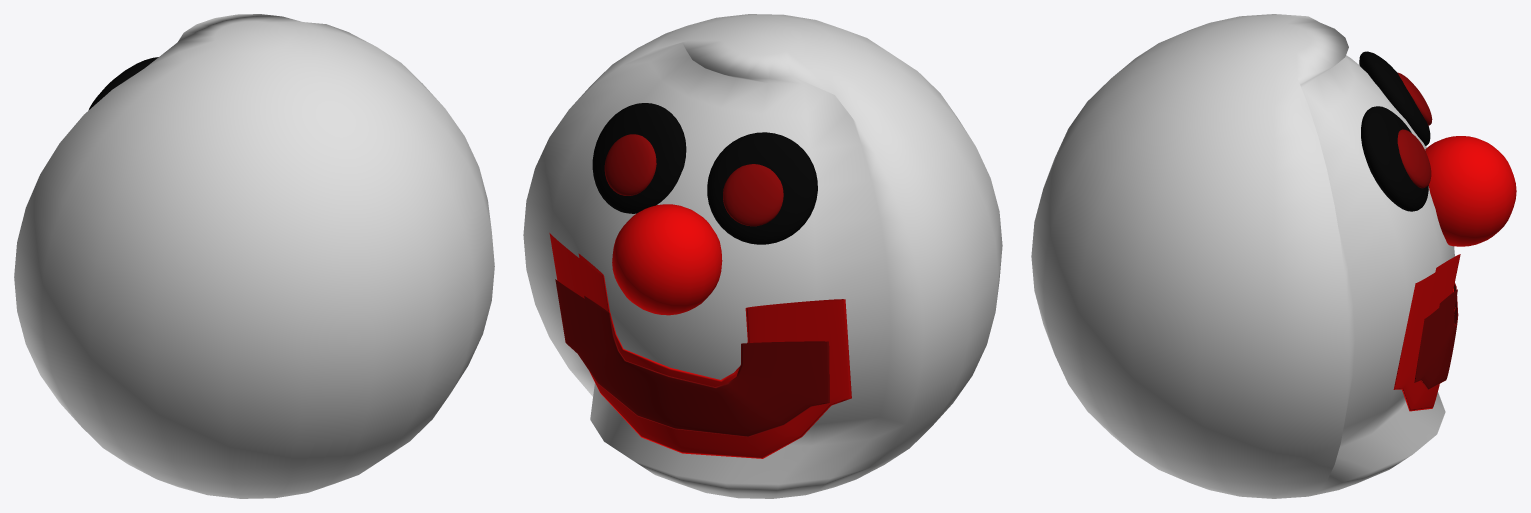
The model's file is Clown Head.fbx.
3 renders of one model, left to right at view 1: azimuth 30°, elevation 25°; view 2: azimuth 150°, elevation 25°; view 3: azimuth 270°, elevation 25°, orthographic.
Parts seen in each view (by area): view 1: pSphere7; view 2: pSphere7; view 3: pSphere7.
Boxes of the visible parts, box(x1,y1,x2,y2) form: pSphere7: box(14, 14, 494, 498); pSphere7: box(523, 14, 1002, 498); pSphere7: box(1031, 14, 1516, 498).
Size of the model in its own units: 3.17 by 3.17 by 3.17.
